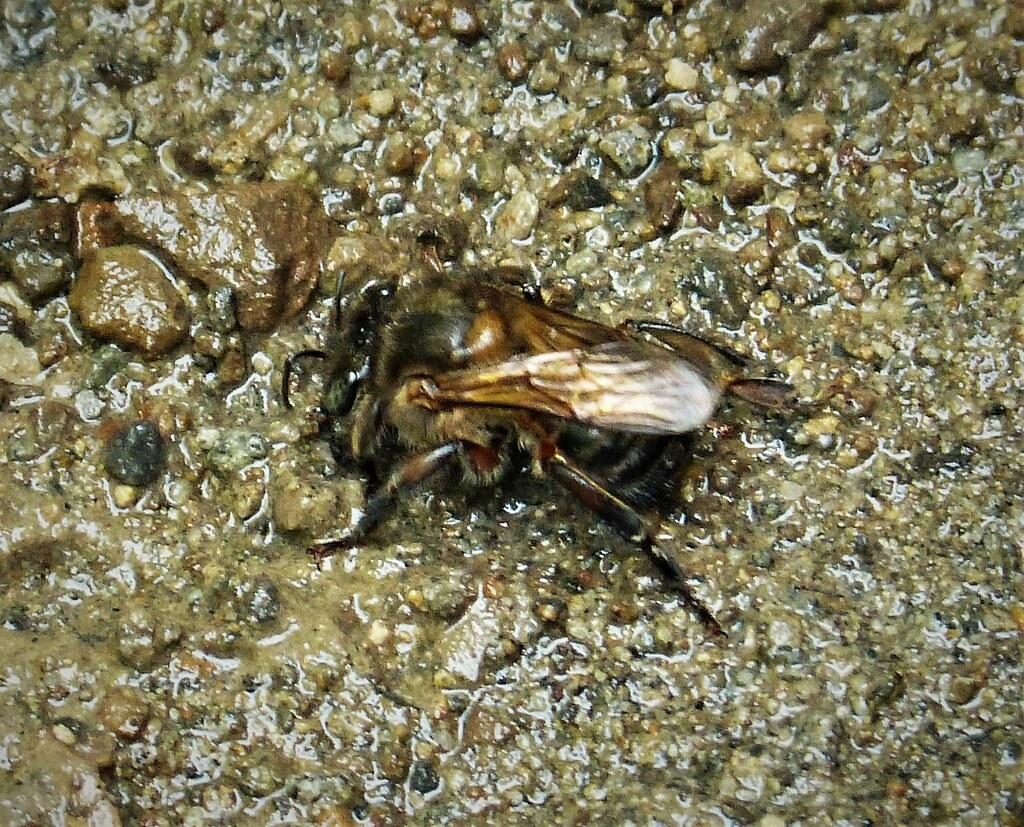Meliponula: (278, 249, 783, 615)
